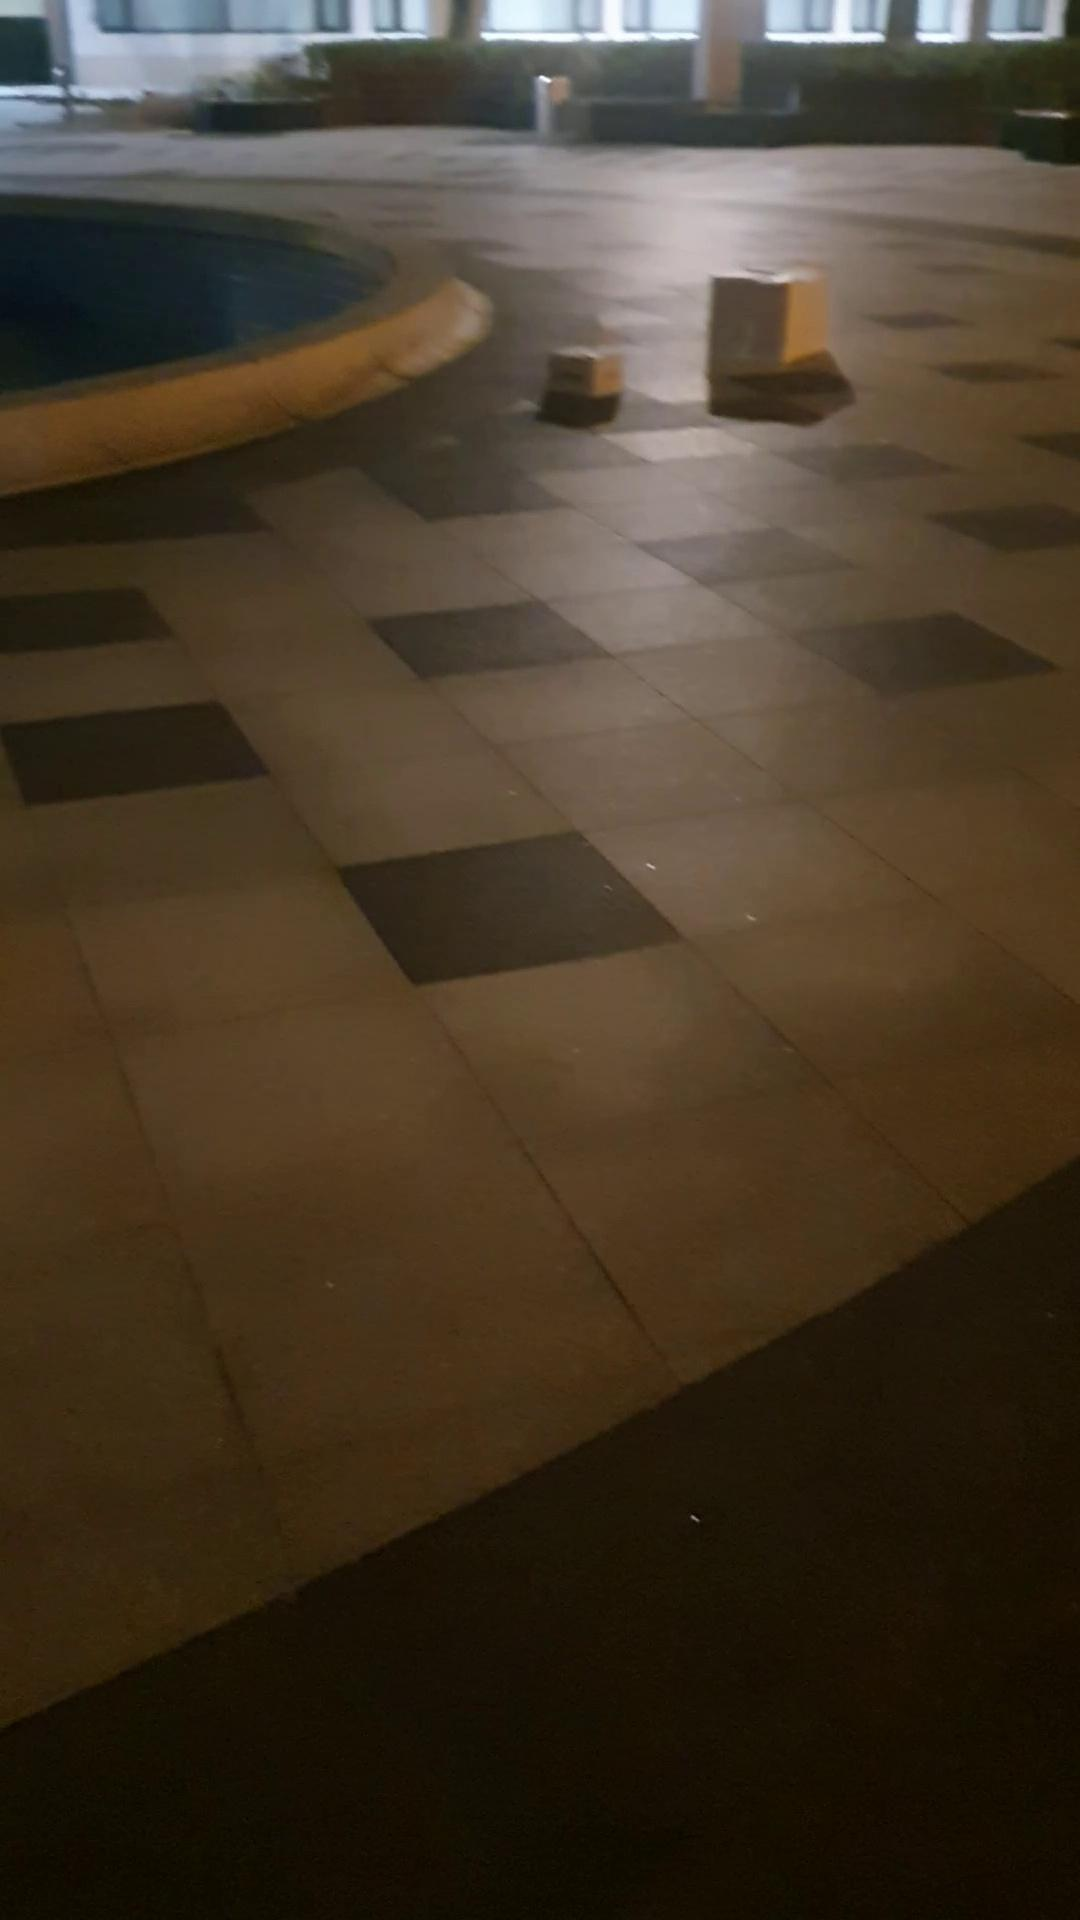Box: (698, 258, 844, 390), (535, 338, 628, 407)
